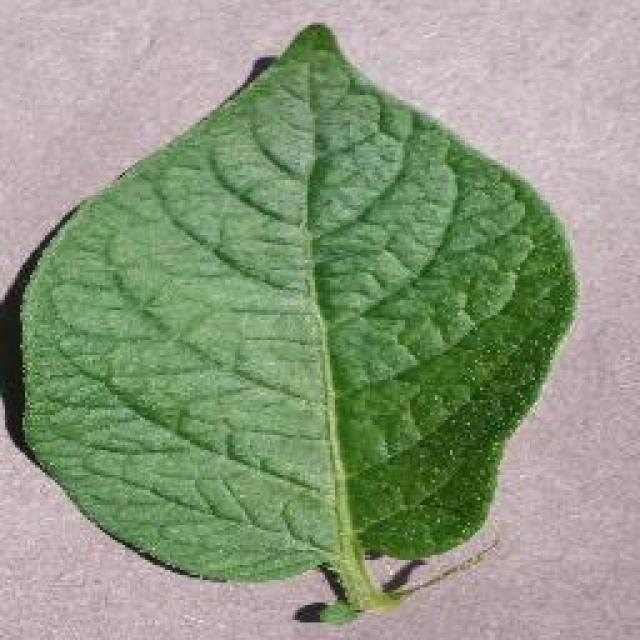Potato: (0, 20, 580, 620)
